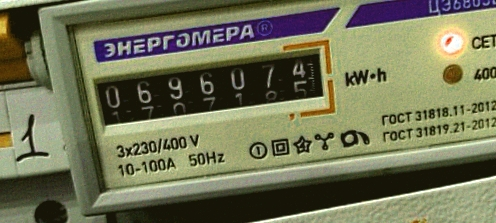0: (102, 83, 124, 110), (228, 64, 248, 92)
4: (289, 55, 308, 79)
5: (292, 78, 311, 100)
6: (196, 68, 217, 97), (134, 78, 155, 105)
7: (260, 61, 279, 89)
9: (166, 73, 185, 101)
screen: (82, 36, 343, 147)
